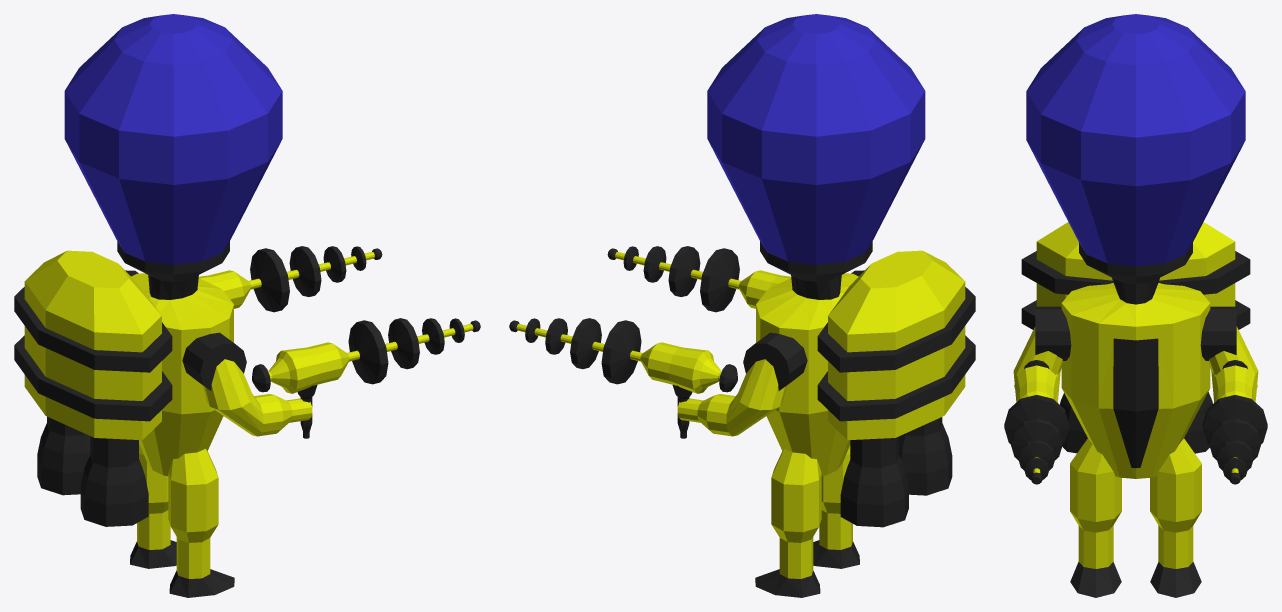
File: Alien.dae
3 views of the same model, side by side, from view 1: azimuth 30°, elevation 25°; view 2: azimuth 150°, elevation 25°; view 3: azimuth 270°, elevation 25° (orthographic).
Parts seen in each view (by area): view 1: Cylinder, Cylinder.004, Cylinder.002, Cylinder.003, Cylinder.001; view 2: Cylinder, Cylinder.004, Cylinder.002, Cylinder.003, Cylinder.001; view 3: Cylinder, Cylinder.003, Cylinder.002, Cylinder.004, Cylinder.001.
Boxes of the visible parts, x1,y1,x2,y2 form: Cylinder: [64, 14, 282, 476]; Cylinder.004: [14, 250, 172, 526]; Cylinder.002: [198, 246, 480, 438]; Cylinder.003: [130, 444, 234, 597]; Cylinder.001: [125, 270, 312, 436]; Cylinder: [707, 14, 925, 476]; Cylinder.004: [817, 250, 975, 527]; Cylinder.002: [509, 246, 791, 438]; Cylinder.003: [755, 445, 859, 597]; Cylinder.001: [677, 270, 864, 436]; Cylinder: [1026, 14, 1245, 478]; Cylinder.003: [1070, 438, 1201, 597]; Cylinder.002: [1004, 360, 1267, 484]; Cylinder.004: [1021, 222, 1250, 453]; Cylinder.001: [1013, 306, 1258, 402].
Bounding box in the file's own units: 4.01 × 2.32 × 5.37.
